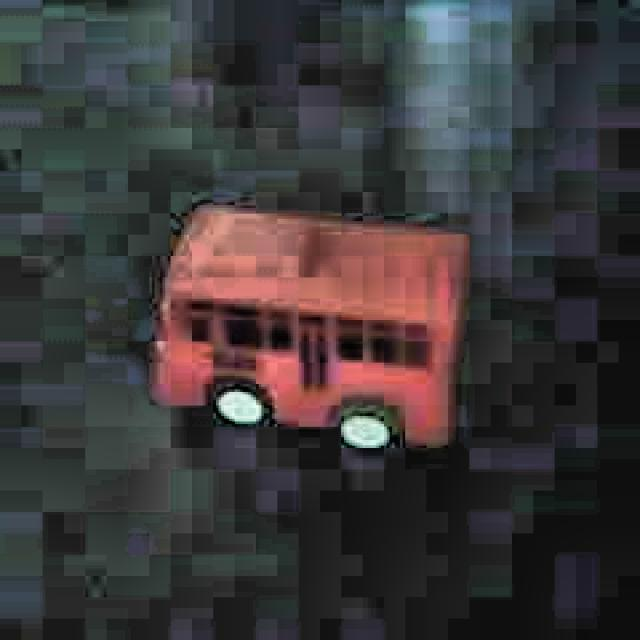bus: (143, 200, 477, 458)
